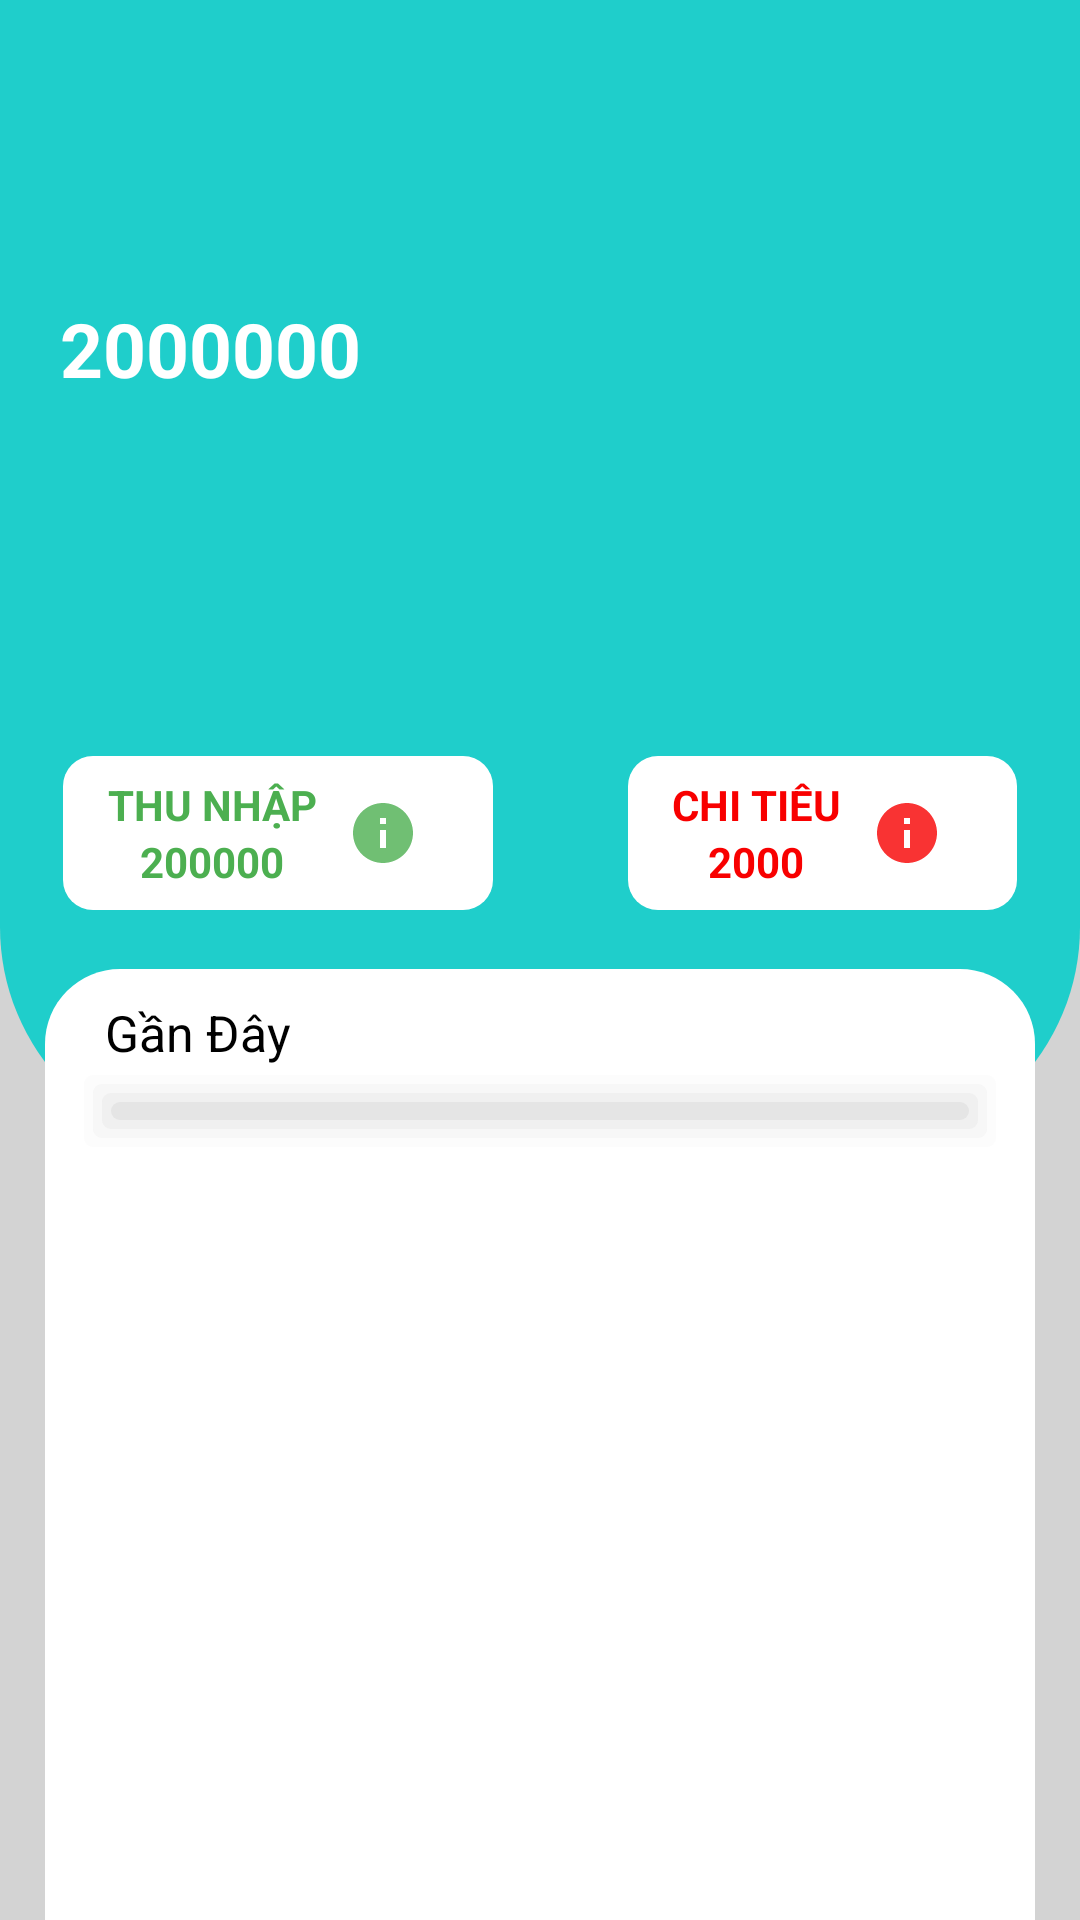

Screen size 1080 x 1920. Icon name, then its box in pixels as (x1, y1, x2, y2):
information incoming: (353, 803, 413, 863)
information outgoing: (877, 803, 937, 863)
